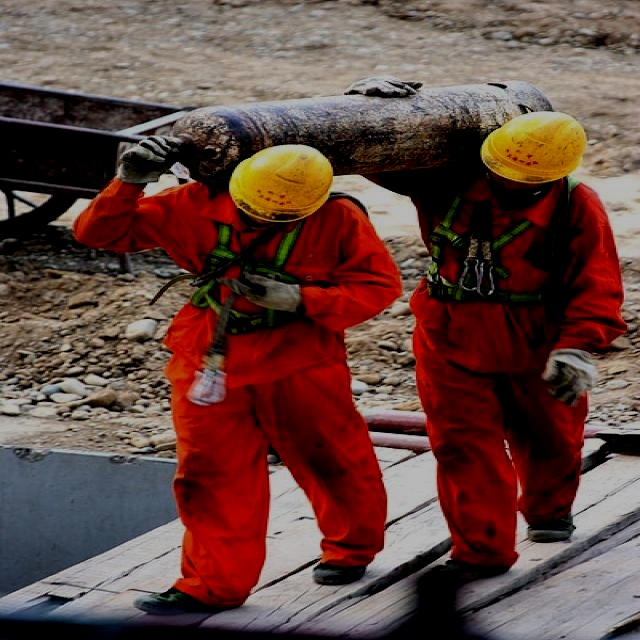Con_Chaleco: (413, 186, 610, 347), (160, 205, 352, 359)
